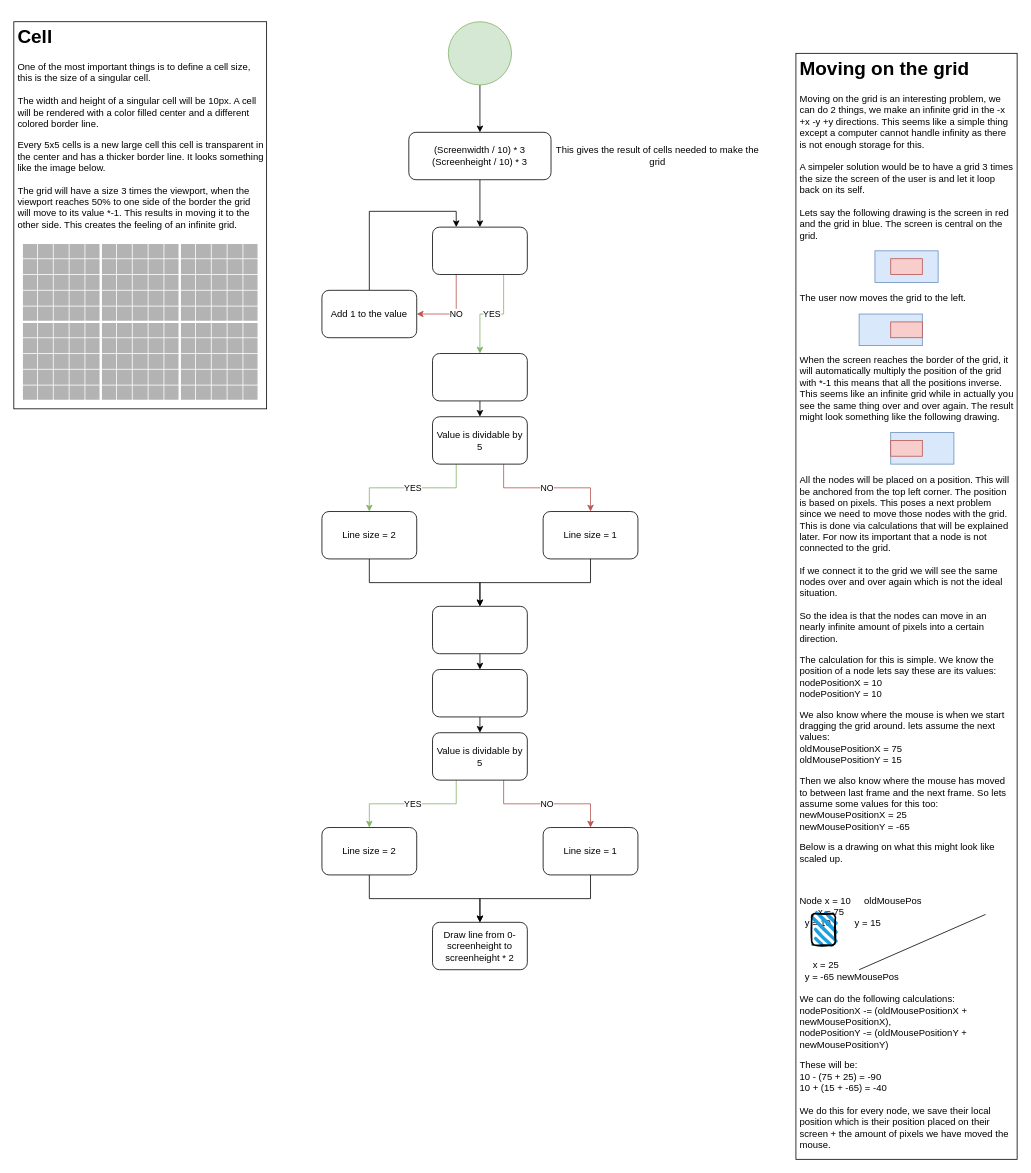
Image size: 1031x1173. Some labels were removed from this diagram. The shapes that lost their labels are listed below. From the top down, each one's box as (x1, y1, x2, y2) in pixels, then its label:
(448, 21, 512, 85): Grid Creation called
(432, 226, 527, 275): Check if the value is divadable by 5 without getting a decimal number
(432, 353, 527, 401): Loop through all numbers + 1 for width
(432, 606, 527, 654): Draw line from 0-screenwidth to screenwidth * 2
(432, 669, 527, 717): Loop through all numbers + 1 for height
